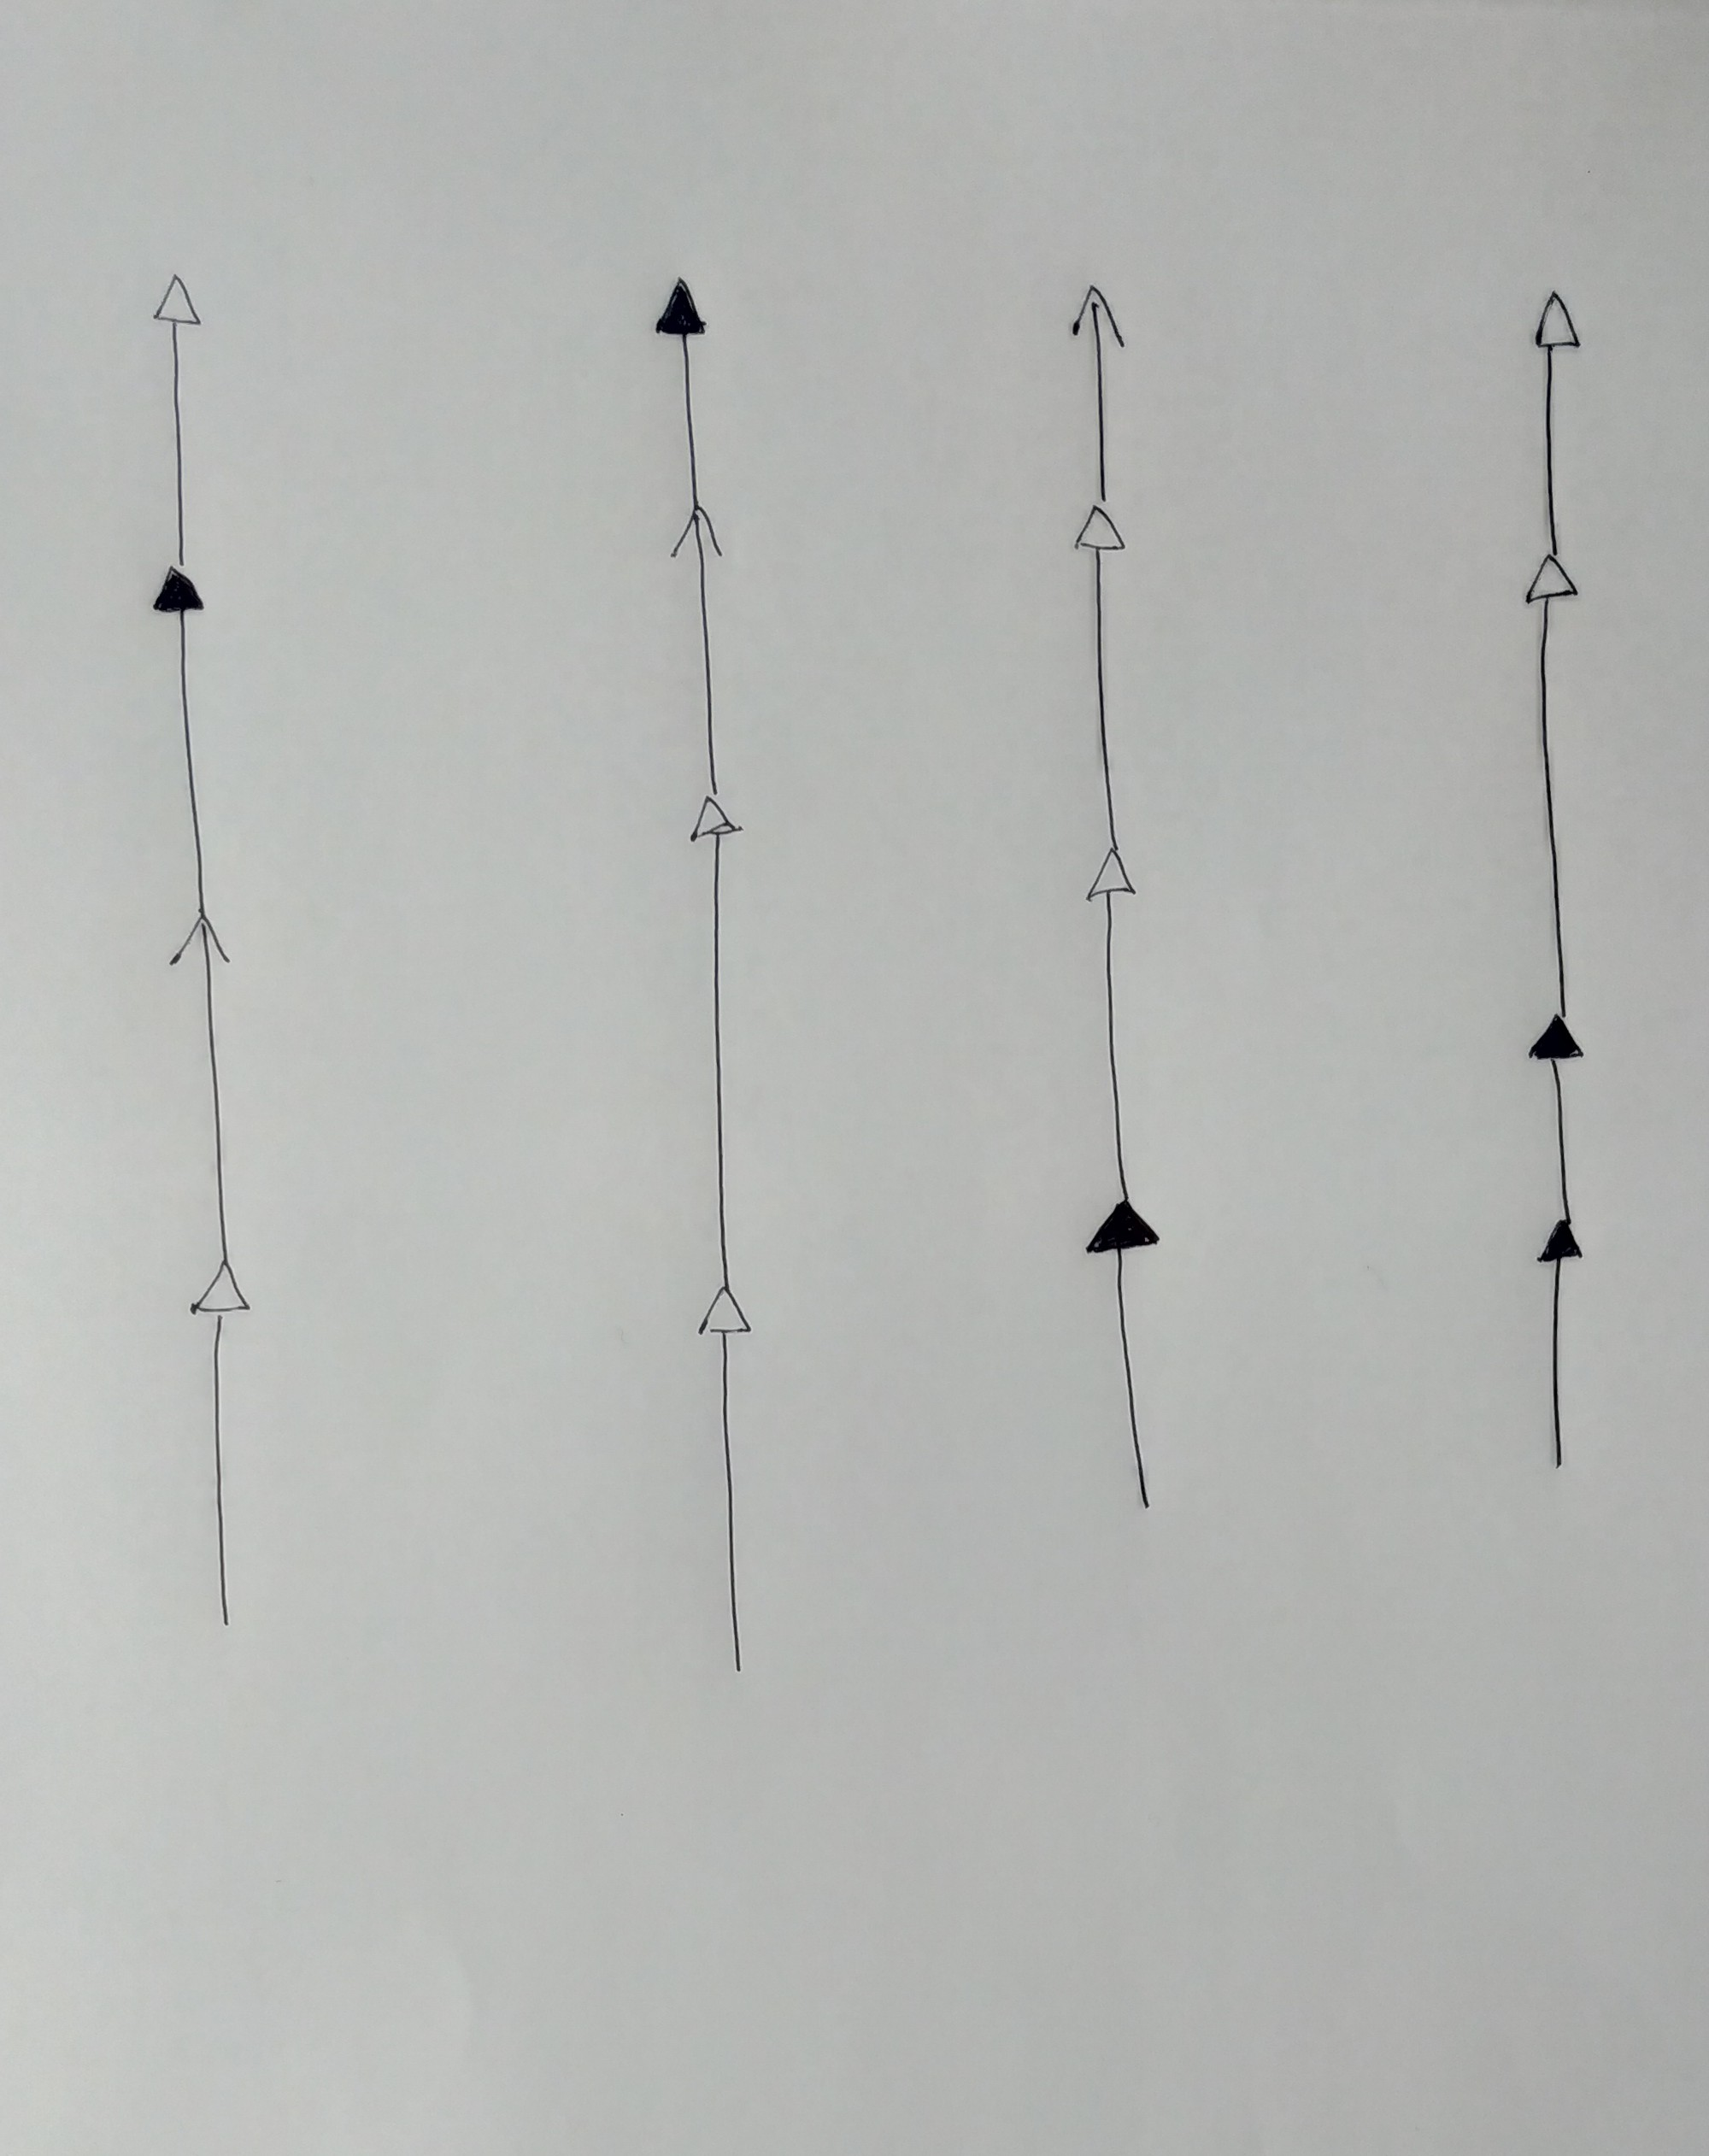arrow_line_up: (1518, 555, 1587, 1018), (687, 796, 750, 1286), (1078, 1202, 1174, 1519), (166, 919, 243, 1263), (694, 1291, 763, 1678), (187, 1265, 257, 1633), (149, 570, 222, 915), (1078, 849, 1147, 1202), (1072, 511, 1140, 852), (663, 506, 731, 791), (1064, 285, 1137, 507), (150, 273, 205, 570), (1529, 290, 1588, 555), (649, 278, 717, 507), (1527, 1017, 1594, 1223), (1536, 1227, 1587, 1477)
